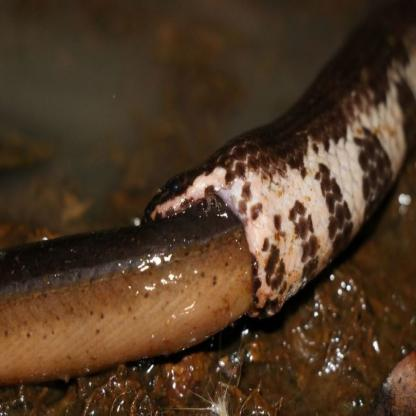snakes: (4, 19, 407, 377)
